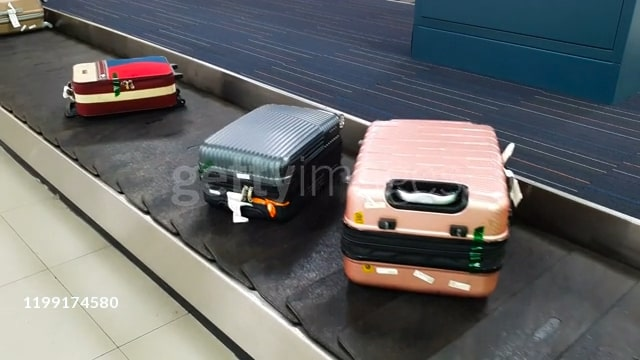baggage: (339, 111, 524, 304), (195, 101, 355, 217), (60, 50, 190, 132)
